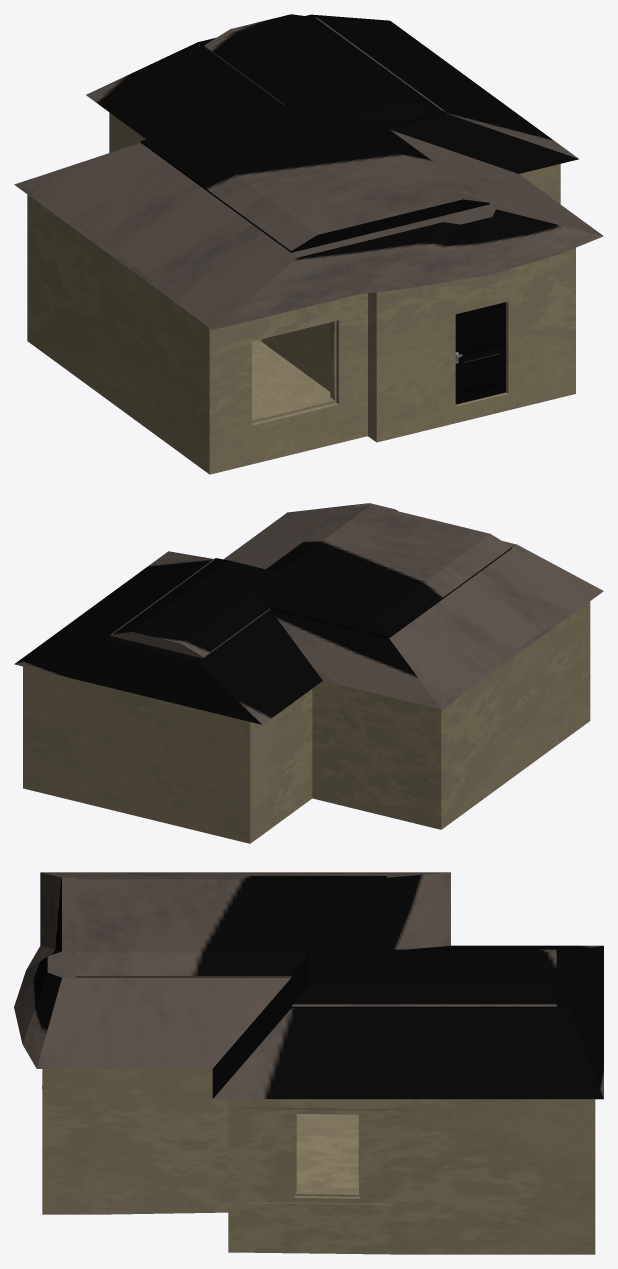
The model's file is House2.fbx.
3 renders of one model, top to bottom at view 1: azimuth 30°, elevation 25°; view 2: azimuth 150°, elevation 25°; view 3: azimuth 270°, elevation 25°, orthographic. The views are drawn at different scales.
Parts seen in each view (by area): view 1: House2, Door.001; view 2: House2; view 3: House2.
Part boxes in pixels (x1,y1,x2,y2): House2: (14, 14, 603, 474); Door.001: (455, 302, 505, 404); House2: (14, 503, 603, 843); House2: (14, 872, 603, 1254).
Bounding box in the file's own units: 1709 × 749 × 1876.
